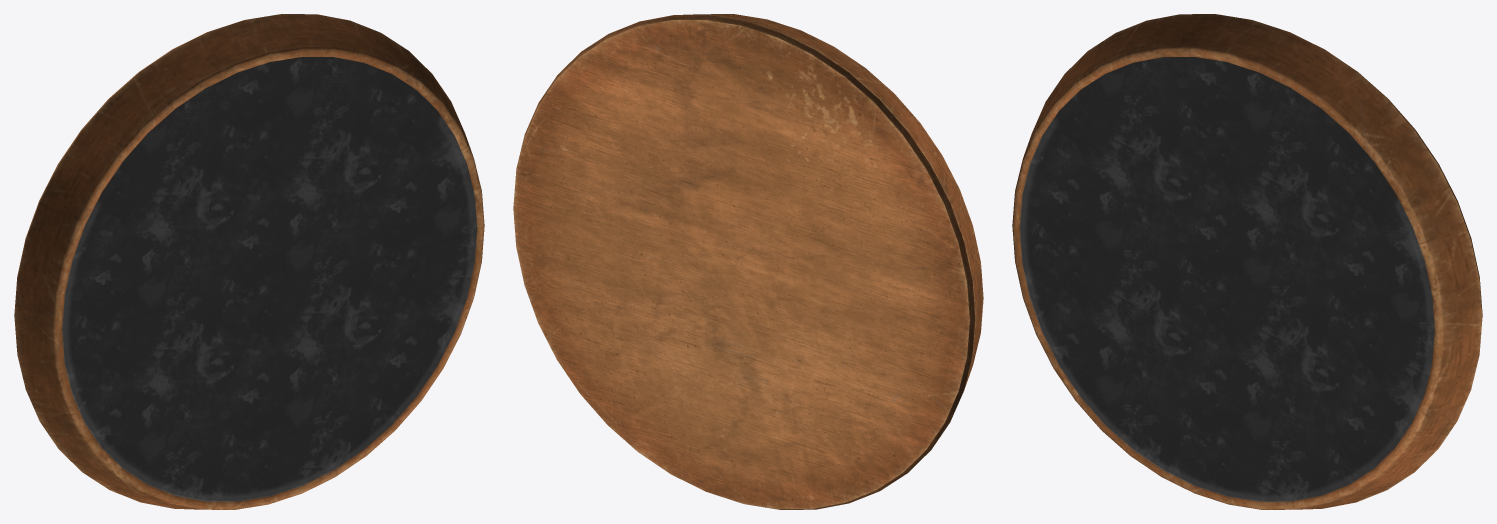
The model's file is clock_aligned.obj.
3 views of the same model, side by side, from view 1: azimuth 30°, elevation 25°; view 2: azimuth 150°, elevation 25°; view 3: azimuth 330°, elevation 25° (orthographic).
Visible parts, largest first — view 1: glass, clock_main; view 2: clock_main; view 3: glass, clock_main.
Part boxes in pixels (x1,y1,x2,y2): glass: [62, 57, 477, 501]; clock_main: [14, 14, 484, 509]; clock_main: [513, 14, 983, 509]; glass: [1019, 57, 1434, 501]; clock_main: [1012, 14, 1482, 509].
Size of the model in its own units: 34.14 by 34.14 by 3.53.
2 materials, 2 textured.
